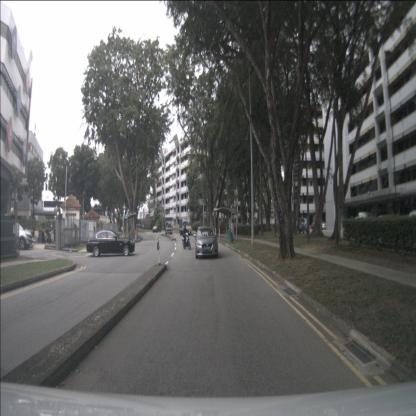human-pedestrian-adult: (121, 226, 123, 235)
vehicle-car: (86, 229, 135, 257), (0, 219, 34, 251), (194, 224, 218, 260), (296, 218, 309, 233), (318, 221, 326, 231), (152, 226, 162, 233)
vehicle-motorcycle: (180, 224, 191, 249), (45, 224, 54, 246)
vehicle-truck: (178, 216, 192, 236), (164, 216, 174, 235)
